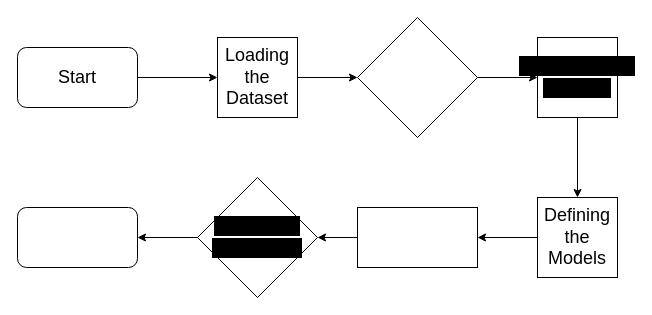
Image size: 652x315. Some labels were removed from this diagram. The shapes that lost their labels are listed below. From the top down, each one's centre as x and y in pixels, then its label:
At [417,77]: "Feature Extraction".
At [77,237]: "End".
At [417,237]: "Model Training & Evaluation".
